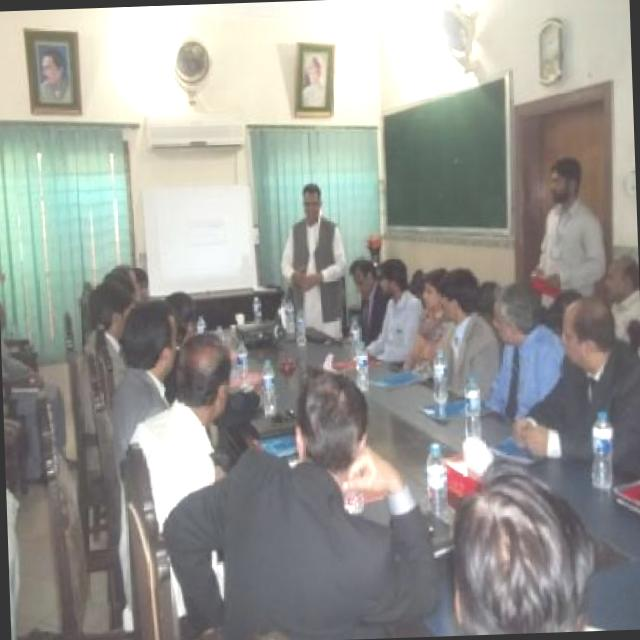Person: (71, 155, 640, 640), (0, 300, 79, 481), (5, 487, 22, 640)
